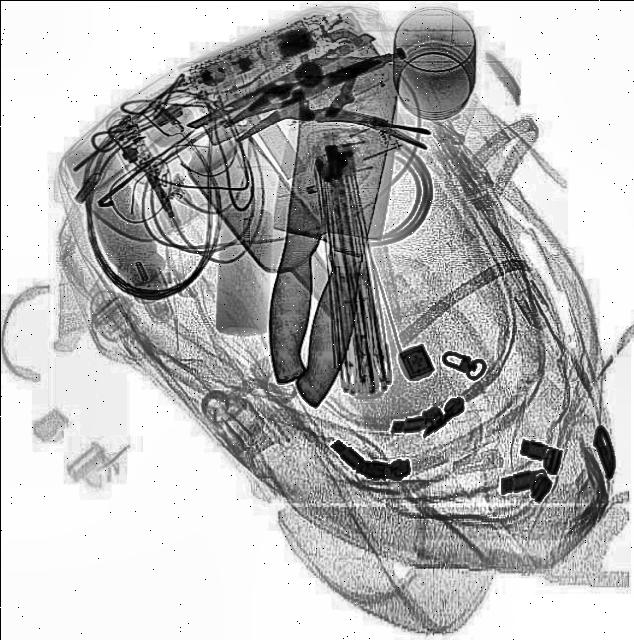Knife: (230, 40, 402, 410), (259, 57, 402, 395)
